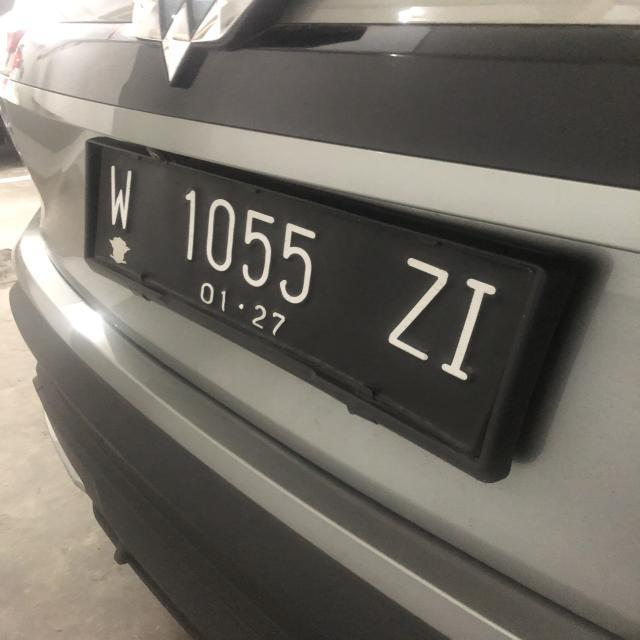0: (204, 197, 238, 270)
1: (174, 184, 204, 262)
5: (276, 214, 318, 310), (240, 204, 274, 292)
I: (441, 276, 498, 381)
W: (105, 160, 143, 234)
Z: (387, 256, 452, 366)
